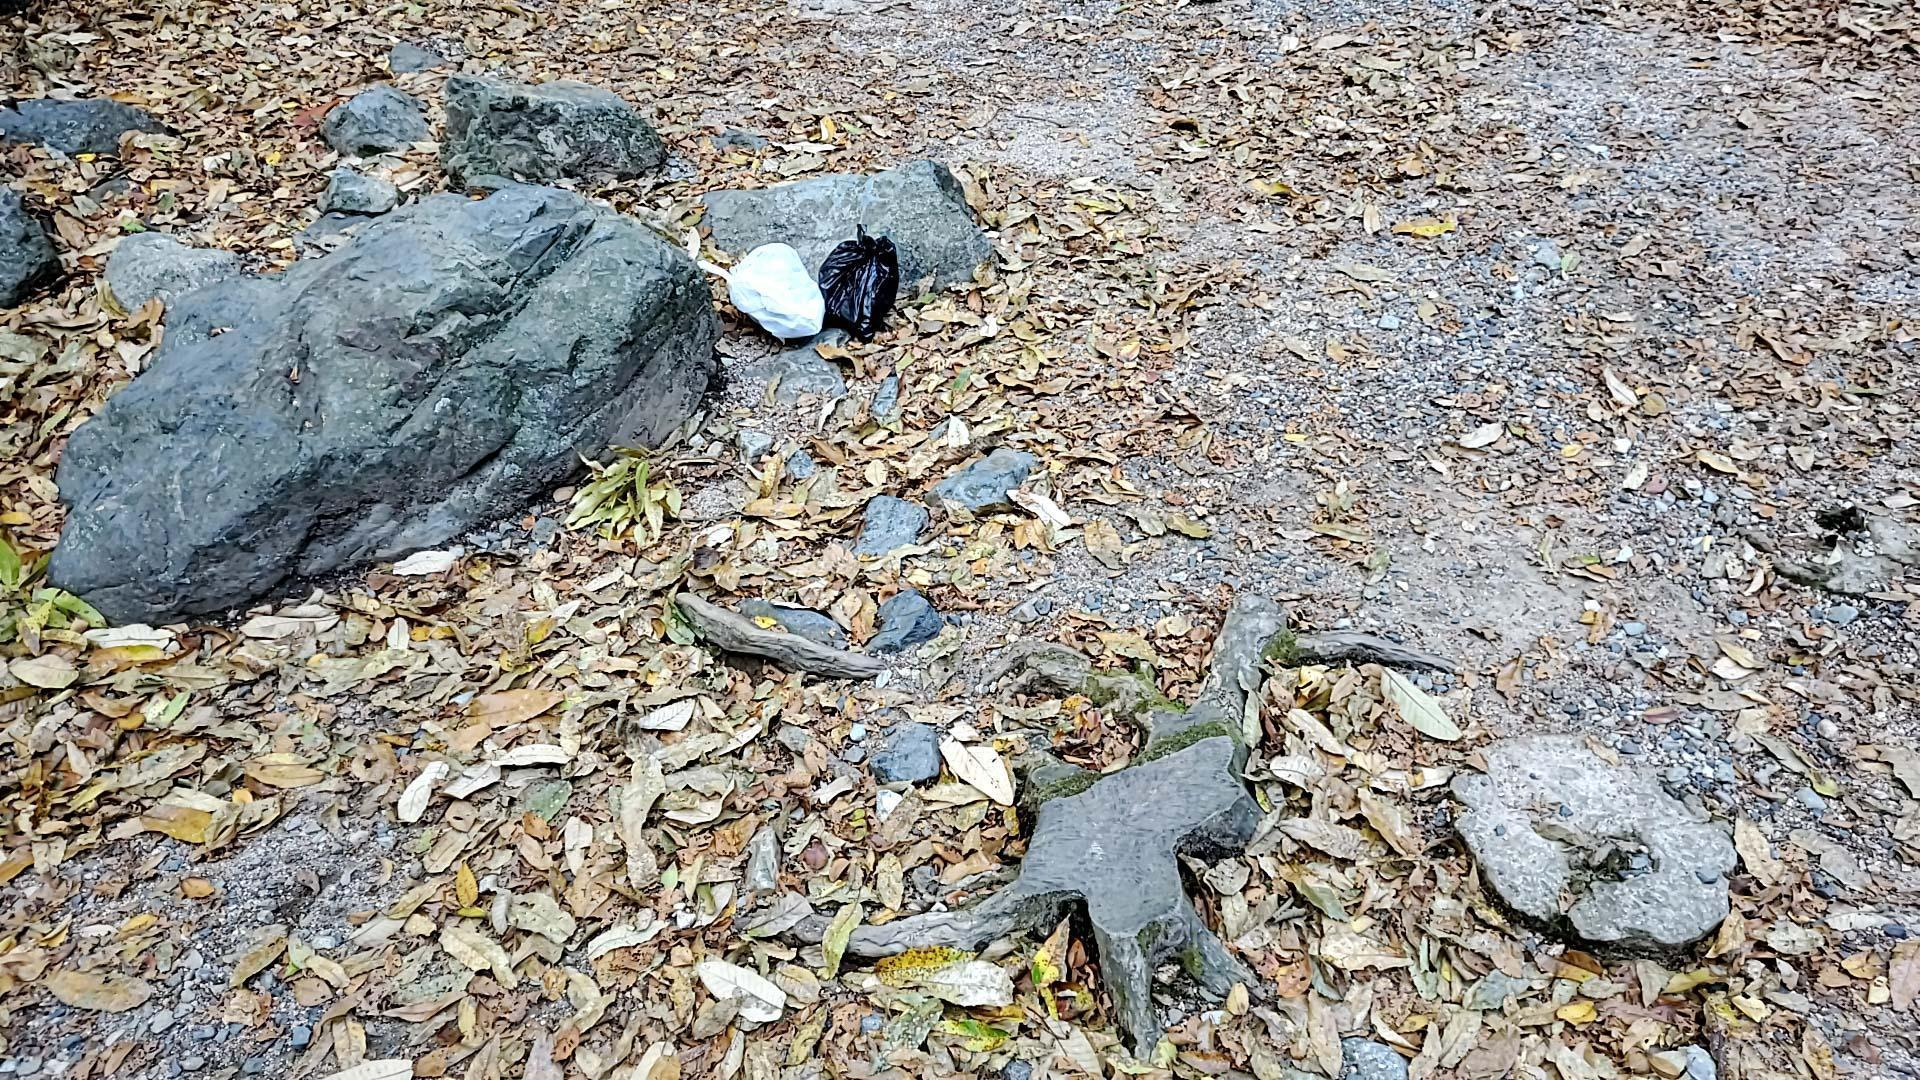black_bag: (816, 222, 902, 343)
white_bag: (691, 240, 825, 345)
